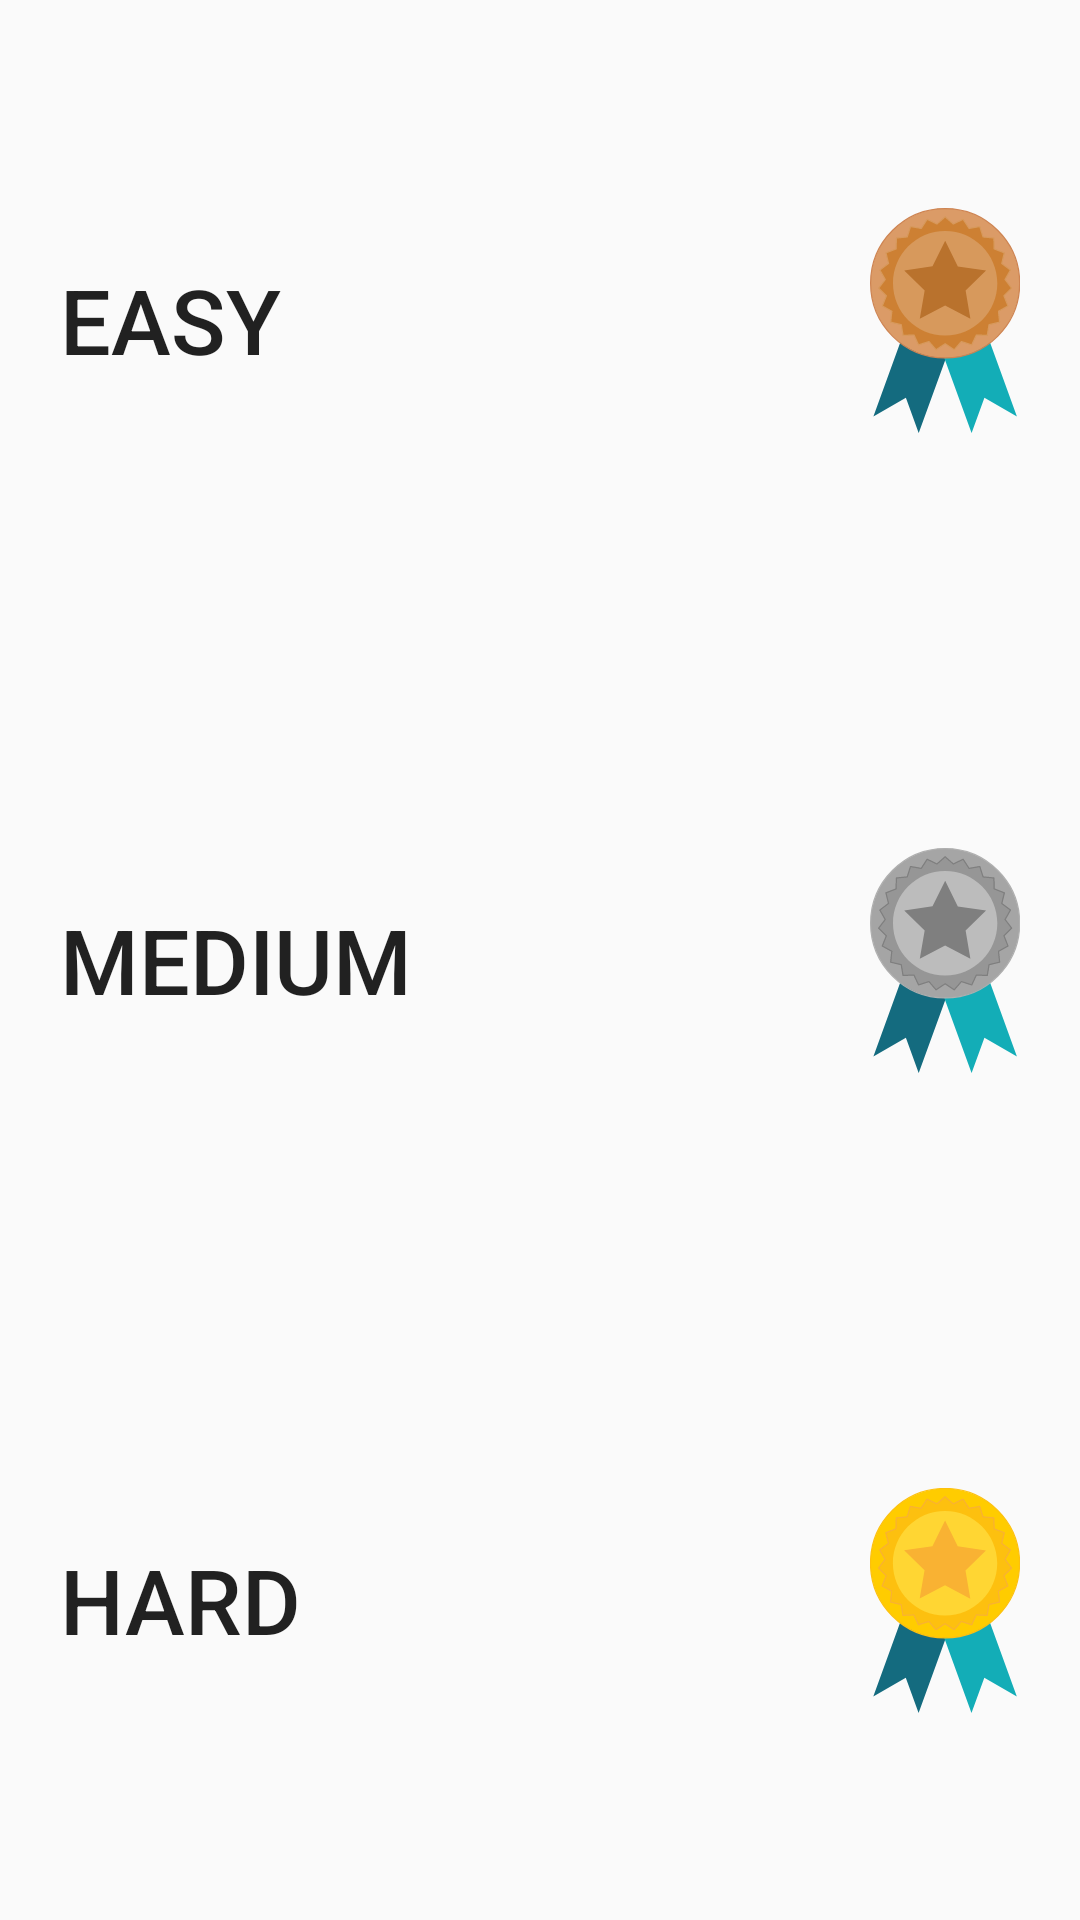

Named icons in this screenshot (1080*1920) and their bounding boxes, (x1, y1, x2, y2):
bronze medal: (870, 208, 1020, 433)
gold medal: (870, 1488, 1020, 1713)
silver medal: (870, 848, 1020, 1073)
